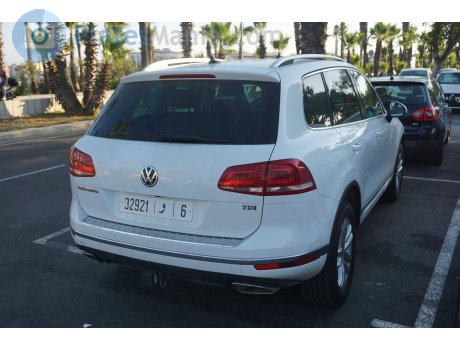number_plate: (120, 193, 195, 222)
